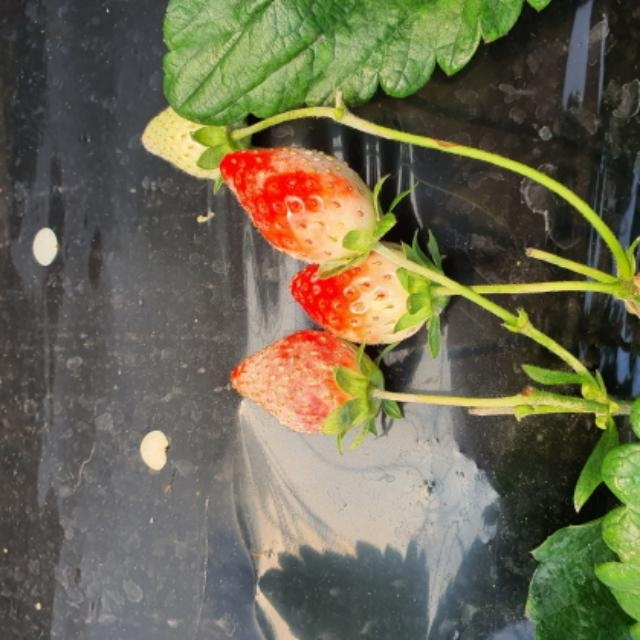Powdery Mildew Fruit: (219, 146, 381, 265), (228, 329, 387, 436)
